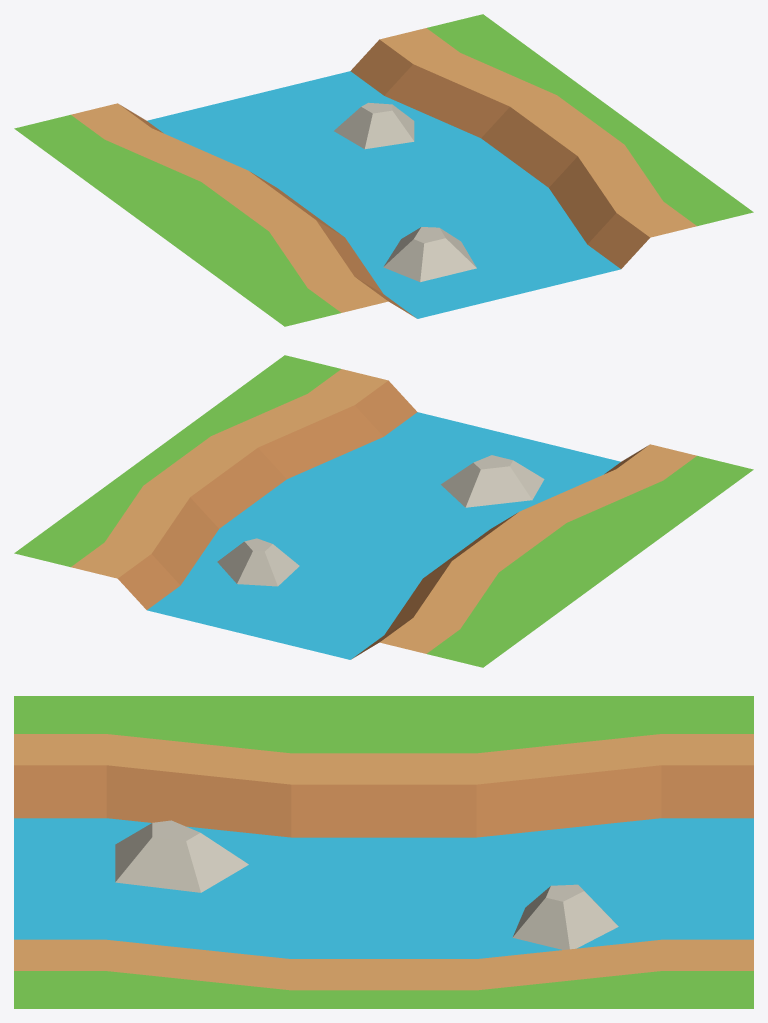
Rendered from river-rocks.glb.
3 views of the same model, one above another, from view 1: azimuth 30°, elevation 25°; view 2: azimuth 150°, elevation 25°; view 3: azimuth 270°, elevation 25° (orthographic). The views are drawn at different scales.
Visible parts, largest first — view 1: ground_riverRocks; view 2: ground_riverRocks; view 3: ground_riverRocks.
Part boxes in pixels (x1,y1,x2,y2): ground_riverRocks: (14,14,753,326); ground_riverRocks: (14,355,753,667); ground_riverRocks: (14,696,753,1008).
Bounding box in the file's own units: 4 × 0.2002 × 4.
